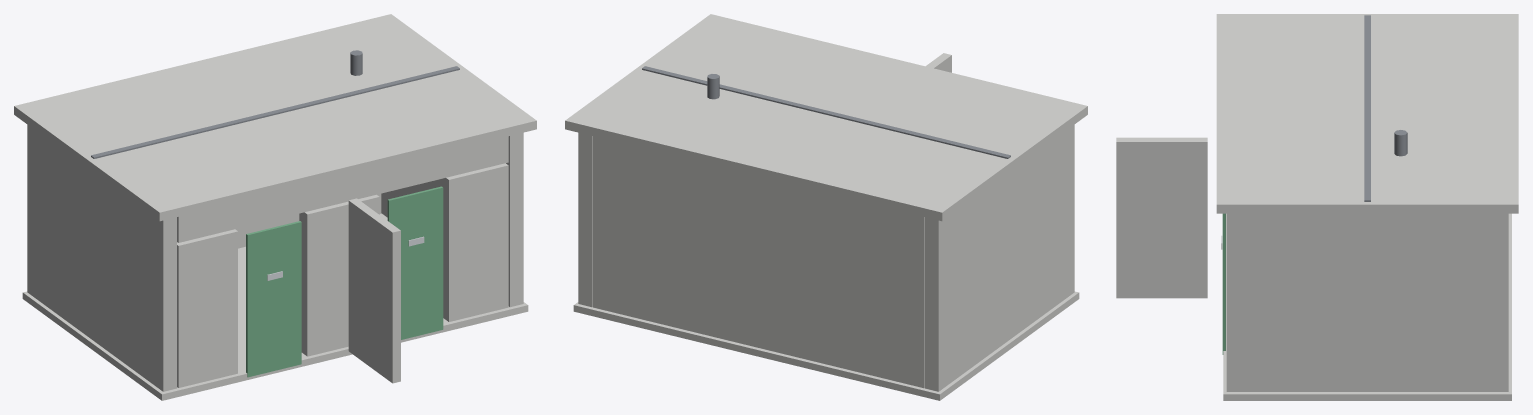
Rendered from Restroom.fbx.
3 renders of one model, left to right at view 1: azimuth 30°, elevation 25°; view 2: azimuth 150°, elevation 25°; view 3: azimuth 270°, elevation 25°, orthographic. The views are drawn at different scales.
Parts seen in each view (by area): view 1: LOD0; view 2: LOD0; view 3: LOD0.
Part boxes in pixels (<box>): LOD0: <box>14,14,536,400</box>; LOD0: <box>565,14,1087,400</box>; LOD0: <box>1116,14,1518,400</box>.
Size of what is drawn, in the model's own units: 544 by 299 by 485.
